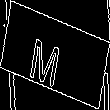M_N: (37, 24, 73, 86)
